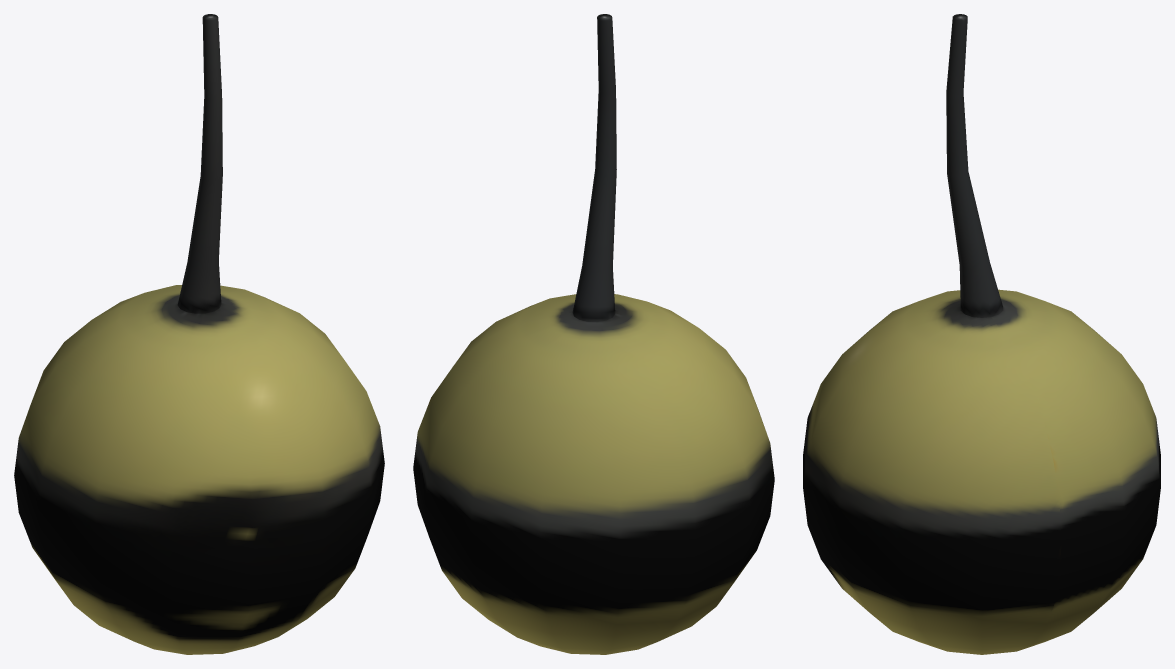
The model's file is RD_Ninja_SmokeBomb_.fbx.
3 views of the same model, side by side, from view 1: azimuth 30°, elevation 25°; view 2: azimuth 150°, elevation 25°; view 3: azimuth 270°, elevation 25° (orthographic). The views are drawn at different scales.
Visible parts, largest first — view 1: Smoke_Bomb_; view 2: Smoke_Bomb_; view 3: Smoke_Bomb_.
Part boxes in pixels (x1=…): Smoke_Bomb_: x1=14, y1=14, x2=384, y2=654; Smoke_Bomb_: x1=413, y1=14, x2=774, y2=654; Smoke_Bomb_: x1=803, y1=14, x2=1160, y2=654.
Bounding box in the file's own units: 3.49 × 6.52 × 3.4.
